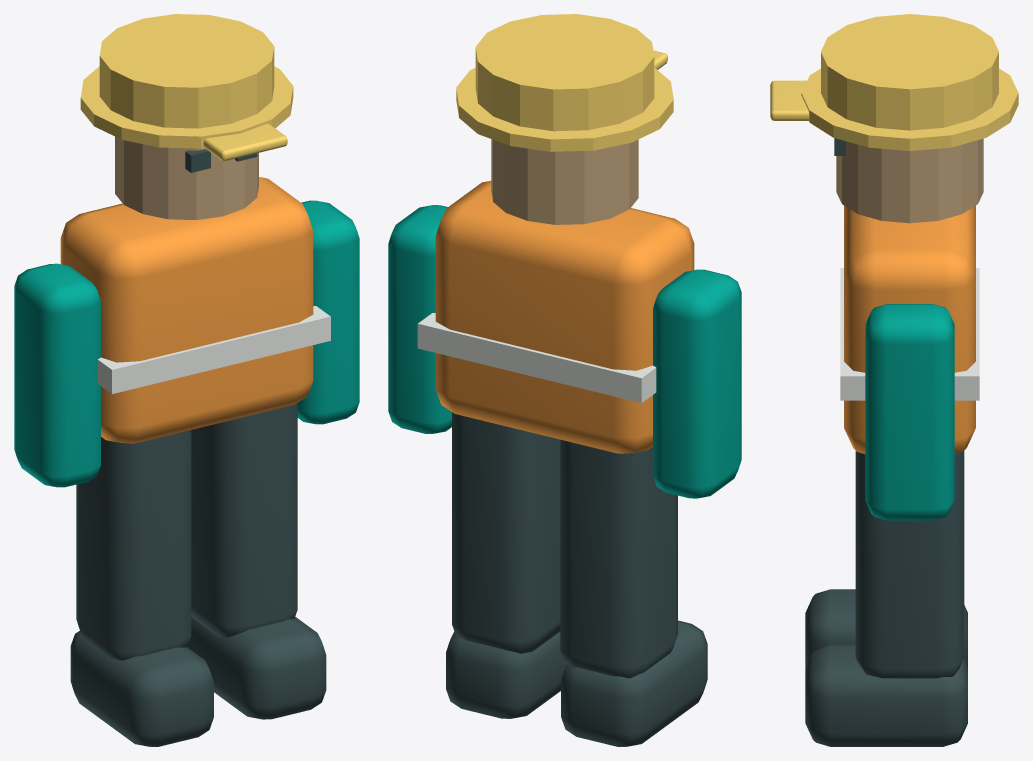
The model's file is driver.glb.
3 views of the same model, side by side, from view 1: azimuth 30°, elevation 25°; view 2: azimuth 150°, elevation 25°; view 3: azimuth 270°, elevation 25° (orthographic). The views are drawn at different scales.
Visible parts, largest first — view 1: Torso, Trouser leg, Trouser leg.001, Arm, Hard hat, Boot, Boot.001, Arm.001, Head, Vest stripe, Hat brim, Hat peak; view 2: Torso, Trouser leg, Trouser leg.001, Arm, Hard hat, Boot, Head, Arm.001, Boot.001, Vest stripe, Hat brim; view 3: Arm.001, Trouser leg.001, Hard hat, Torso, Boot.001, Head, Hat brim, Boot, Vest stripe, Hat peak.
Boxes of the visible parts, x1,y1,x2,y2 form: Torso: (60, 177, 313, 443); Trouser leg: (76, 430, 191, 660); Trouser leg.001: (191, 403, 297, 637); Arm: (14, 263, 100, 487); Hard hat: (99, 14, 274, 128); Boot: (70, 631, 213, 746); Boot.001: (187, 617, 326, 719); Arm.001: (297, 200, 359, 424); Head: (115, 136, 258, 219); Vest stripe: (97, 306, 330, 393); Hat brim: (80, 66, 293, 148); Hat peak: (203, 123, 287, 160); Torso: (435, 180, 694, 453); Trouser leg: (560, 439, 677, 678); Trouser leg.001: (452, 412, 560, 653); Arm: (653, 269, 741, 498); Hard hat: (475, 14, 654, 131); Boot: (561, 620, 707, 746); Head: (491, 139, 638, 224); Arm.001: (388, 205, 451, 433); Boot.001: (446, 631, 566, 718); Vest stripe: (417, 313, 656, 402); Hat brim: (456, 67, 673, 151); Arm.001: (865, 304, 954, 520); Trouser leg.001: (855, 451, 964, 678); Hard hat: (821, 14, 998, 130); Torso: (844, 205, 975, 454); Boot.001: (805, 645, 967, 746); Head: (836, 138, 983, 223); Hat brim: (801, 68, 1018, 150); Boot: (805, 589, 967, 667); Vest stripe: (840, 268, 979, 400); Hat peak: (770, 80, 809, 120).
Bounding box in the file's own units: 0.96 × 1.87 × 0.64.
